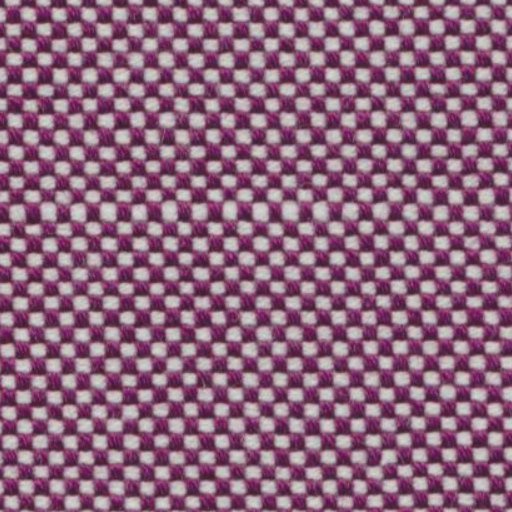TuoSha: (10, 158, 500, 246)
